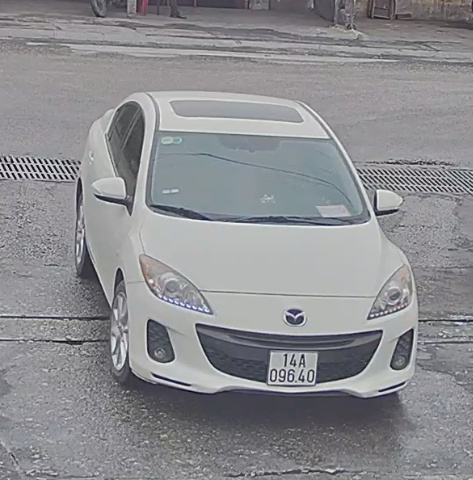vehicle plate: (260, 345, 321, 393)
